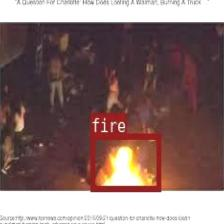fire: (90, 132, 160, 190)
